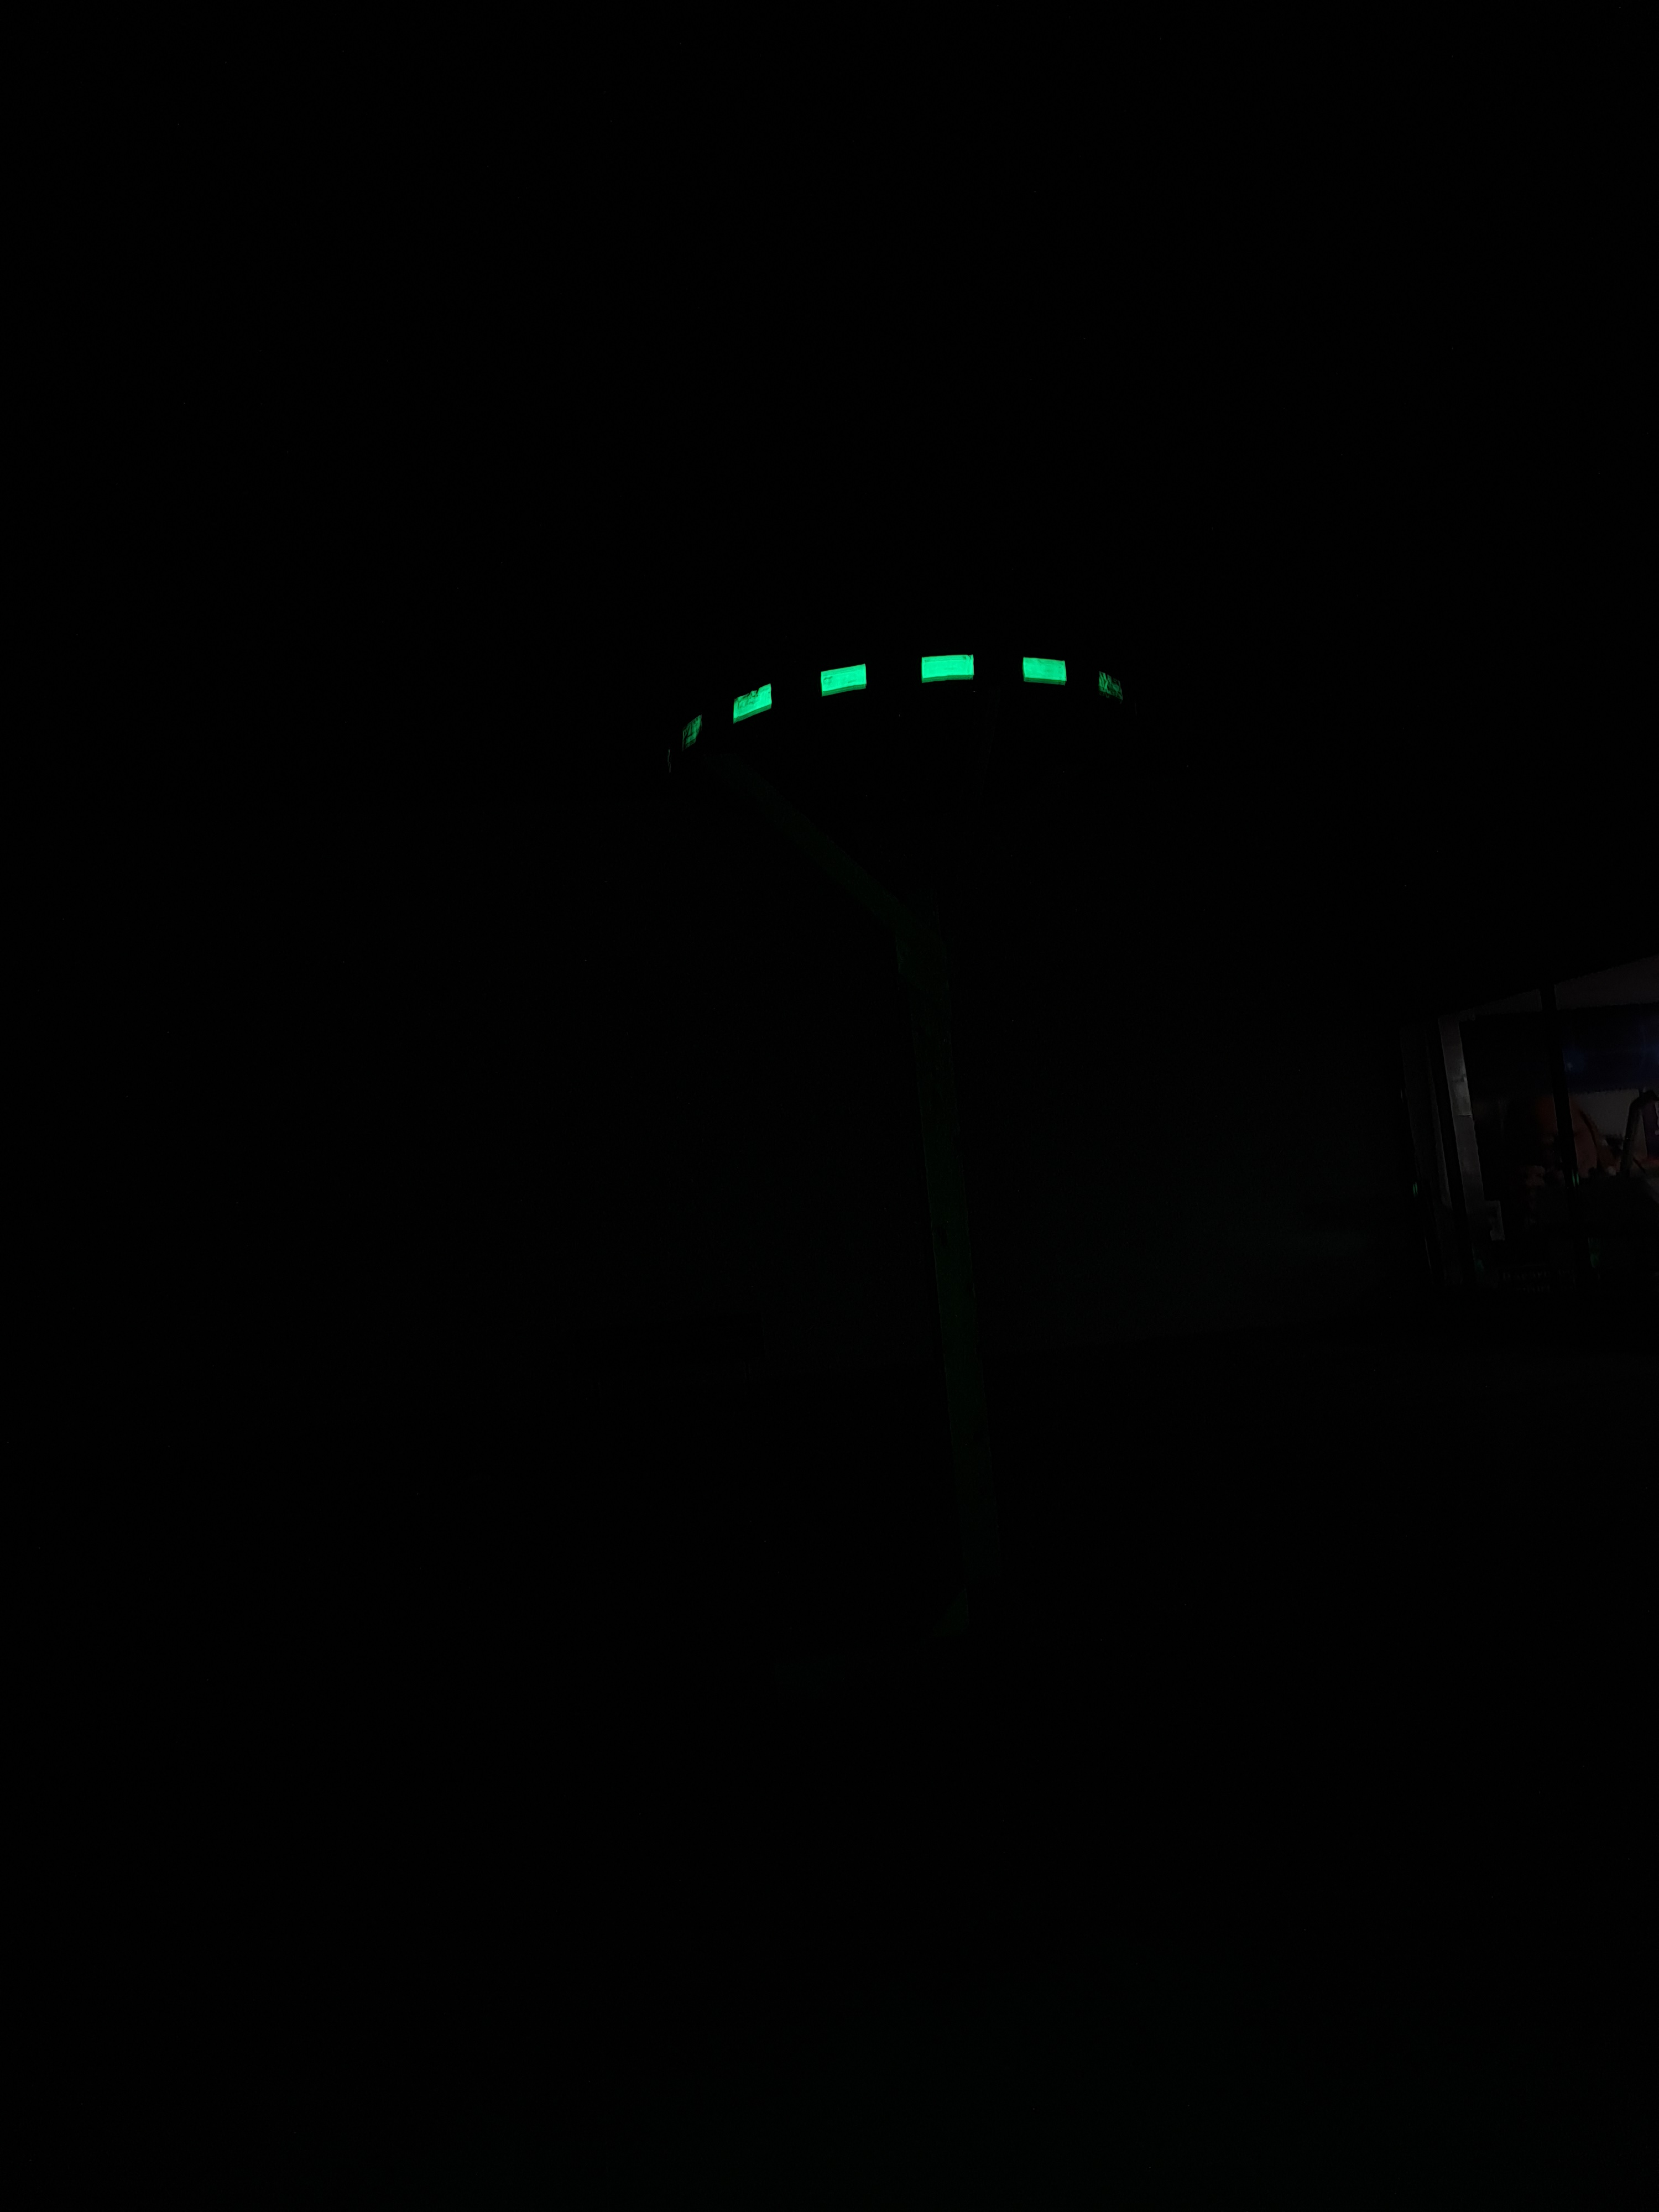hoop: (645, 606, 1147, 772)
